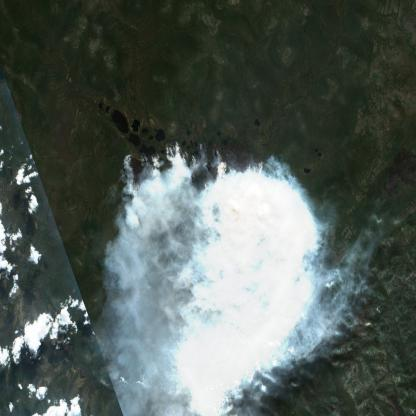fire: (119, 139, 266, 279)
